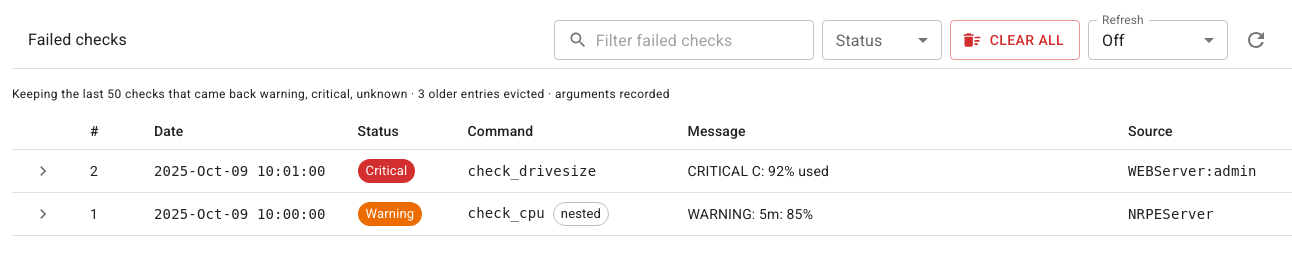
Test: FailedChecks › clears the log over DELETE
The image size is (1292, 253).
Expected: the text "check_drivesize" is shown, [452,149,672,192]
Click the button "Clear all": (1015, 40) [950,20,1080,60]
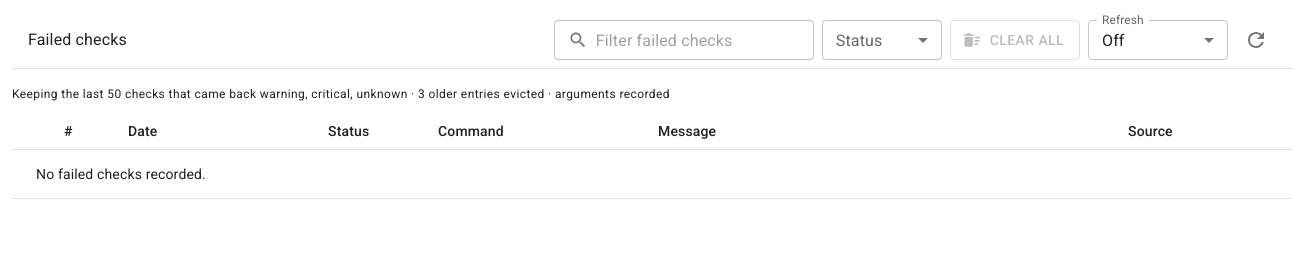
Now the text "No failed checks recorded." is shown, box [36,166,206,182]
